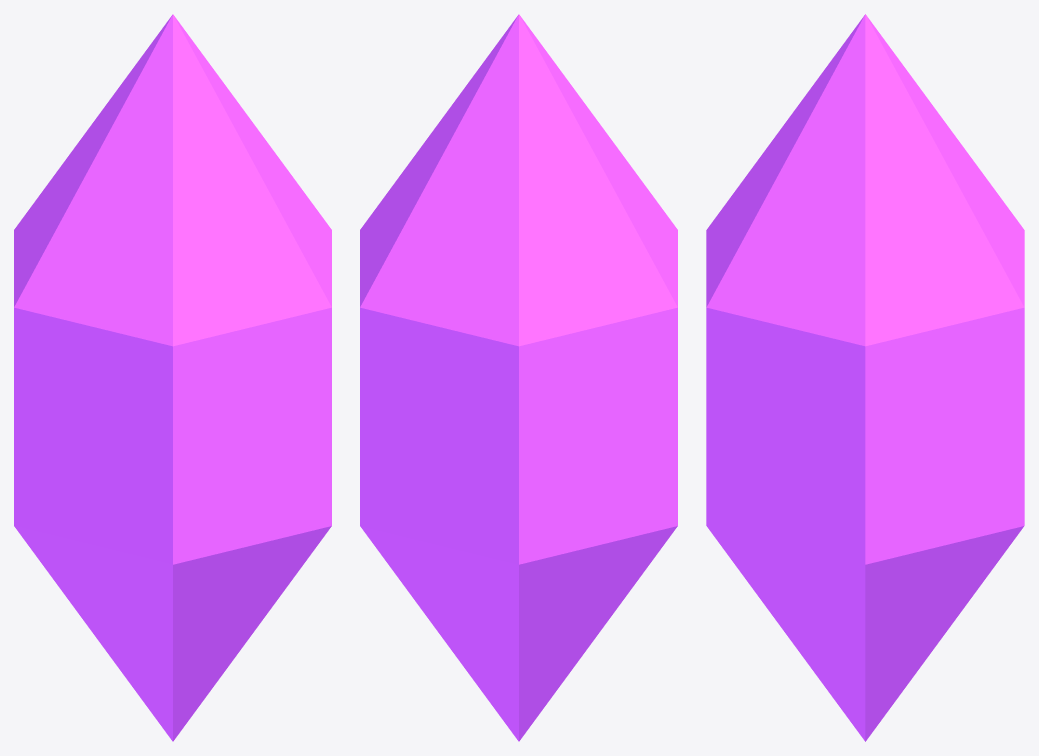
The model's file is ametista.glb.
3 views of the same model, side by side, from view 1: azimuth 30°, elevation 25°; view 2: azimuth 150°, elevation 25°; view 3: azimuth 270°, elevation 25° (orthographic).
Visible parts, largest first — view 1: GEM_05_DoubleTerminatedDiamond; view 2: GEM_05_DoubleTerminatedDiamond; view 3: GEM_05_DoubleTerminatedDiamond.
Part boxes in pixels (<box>): GEM_05_DoubleTerminatedDiamond: <box>14,14,331,741</box>; GEM_05_DoubleTerminatedDiamond: <box>360,14,677,741</box>; GEM_05_DoubleTerminatedDiamond: <box>706,14,1024,741</box>.
Bounding box in the file's own units: 0.6399 × 1.4 × 0.5543.
